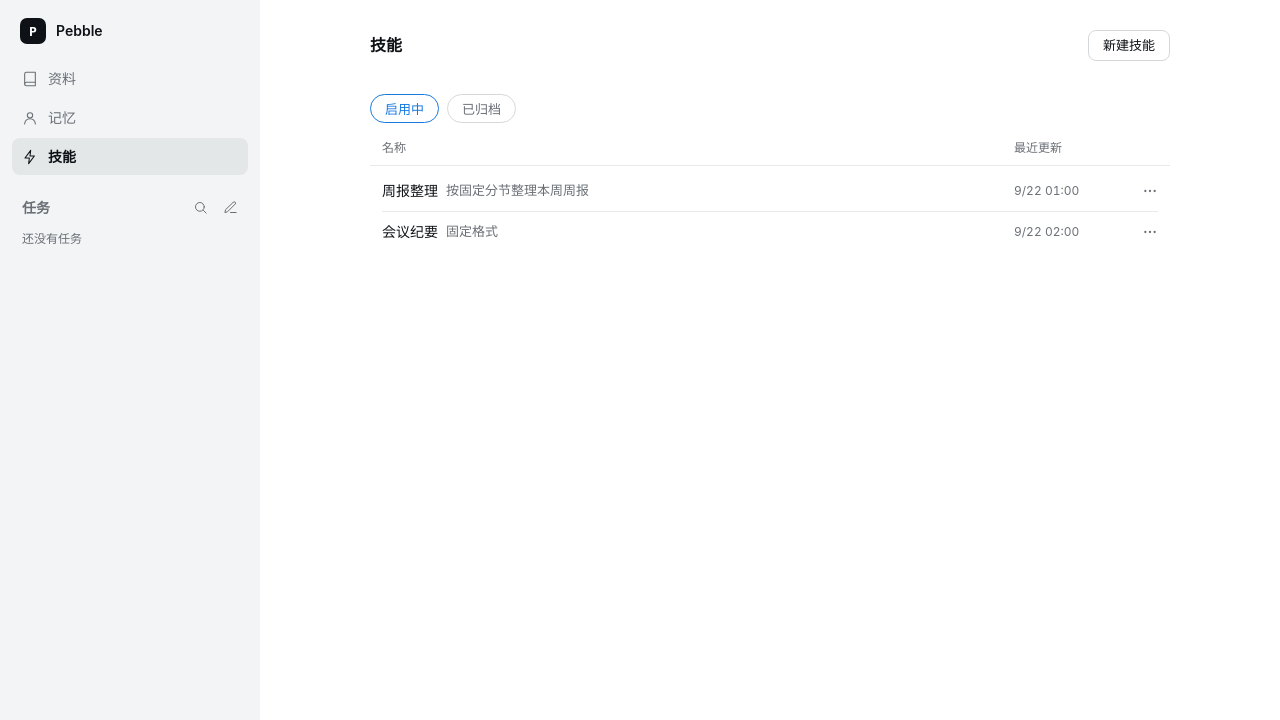
Scenario: 目录行尾的 ⋯ 菜单可以归档，结果一句话留在列表上方
This screenshot has width=1280, height=720.
Click the 1st button named "更多操作" at (1150, 190), box [1136, 176, 1164, 204]
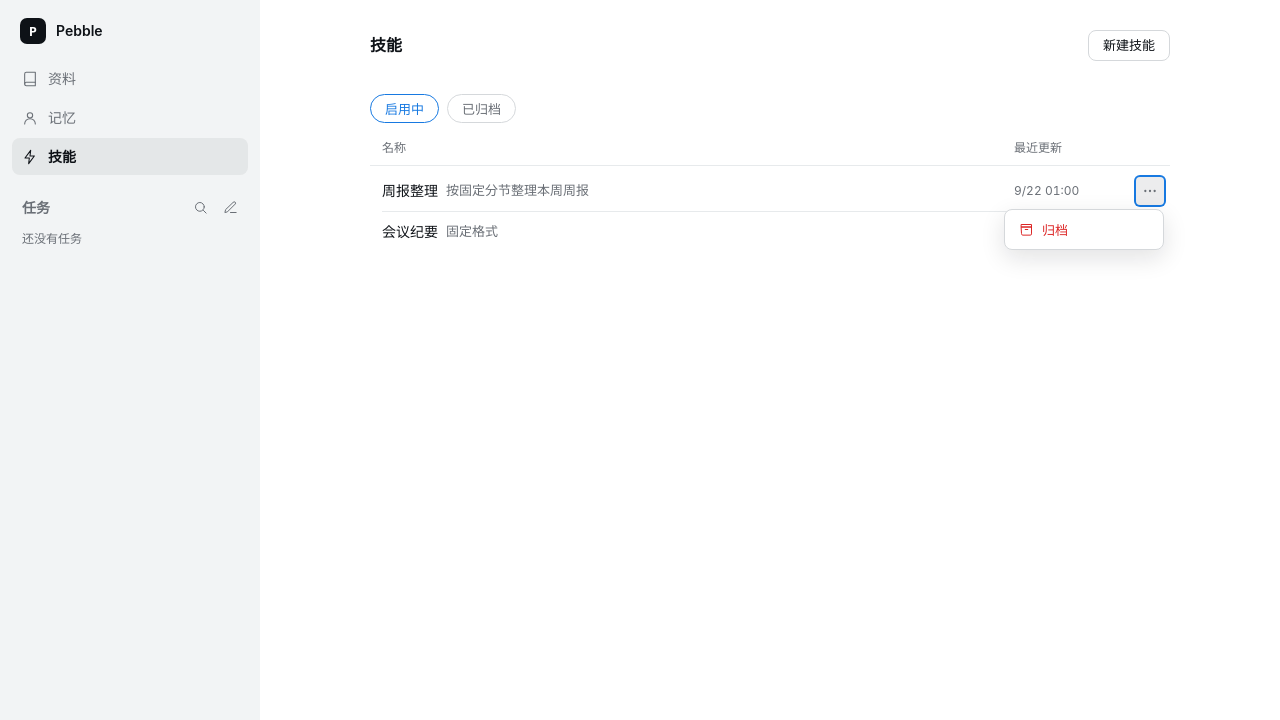
Click the menu item "归档" at (1084, 229), box [1009, 214, 1159, 244]
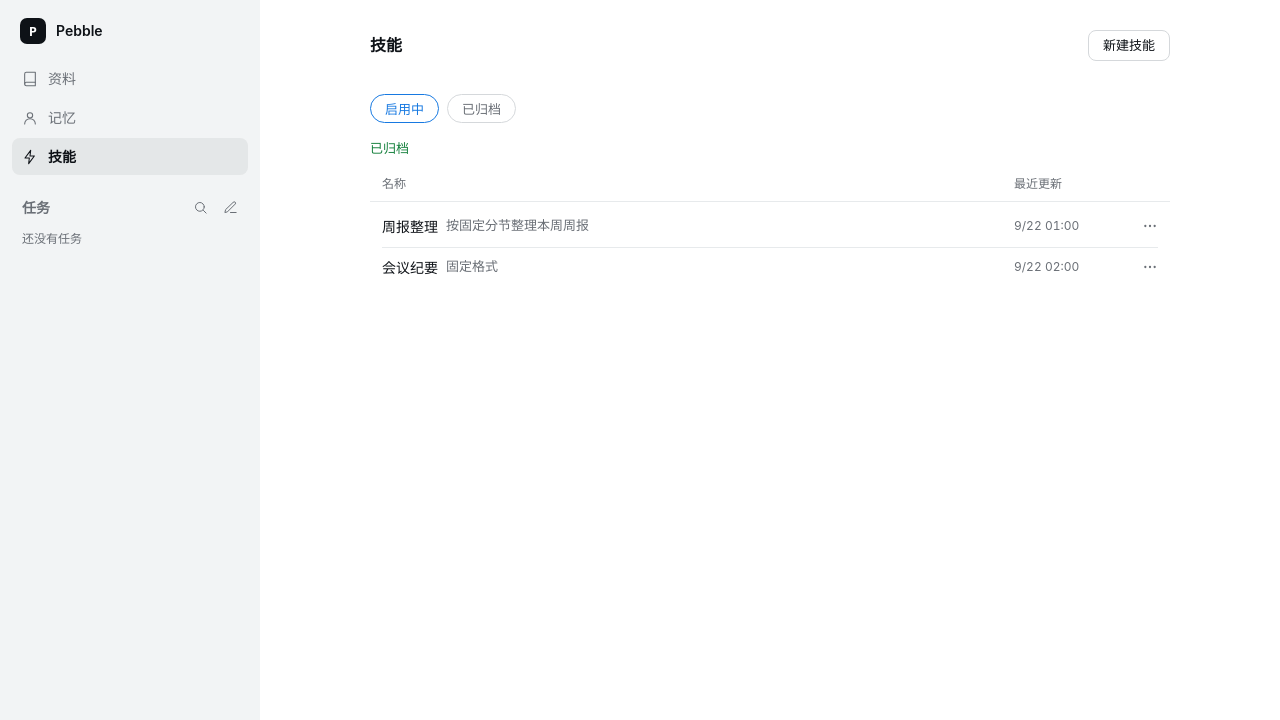
Check: the message reads "已归档", box [370, 140, 409, 156]
